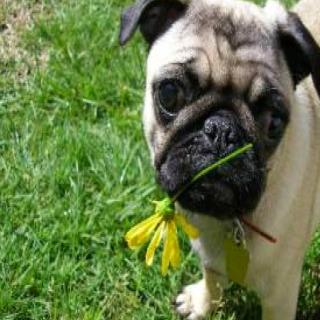dog: (109, 0, 320, 226)
nose: (202, 104, 236, 148)
